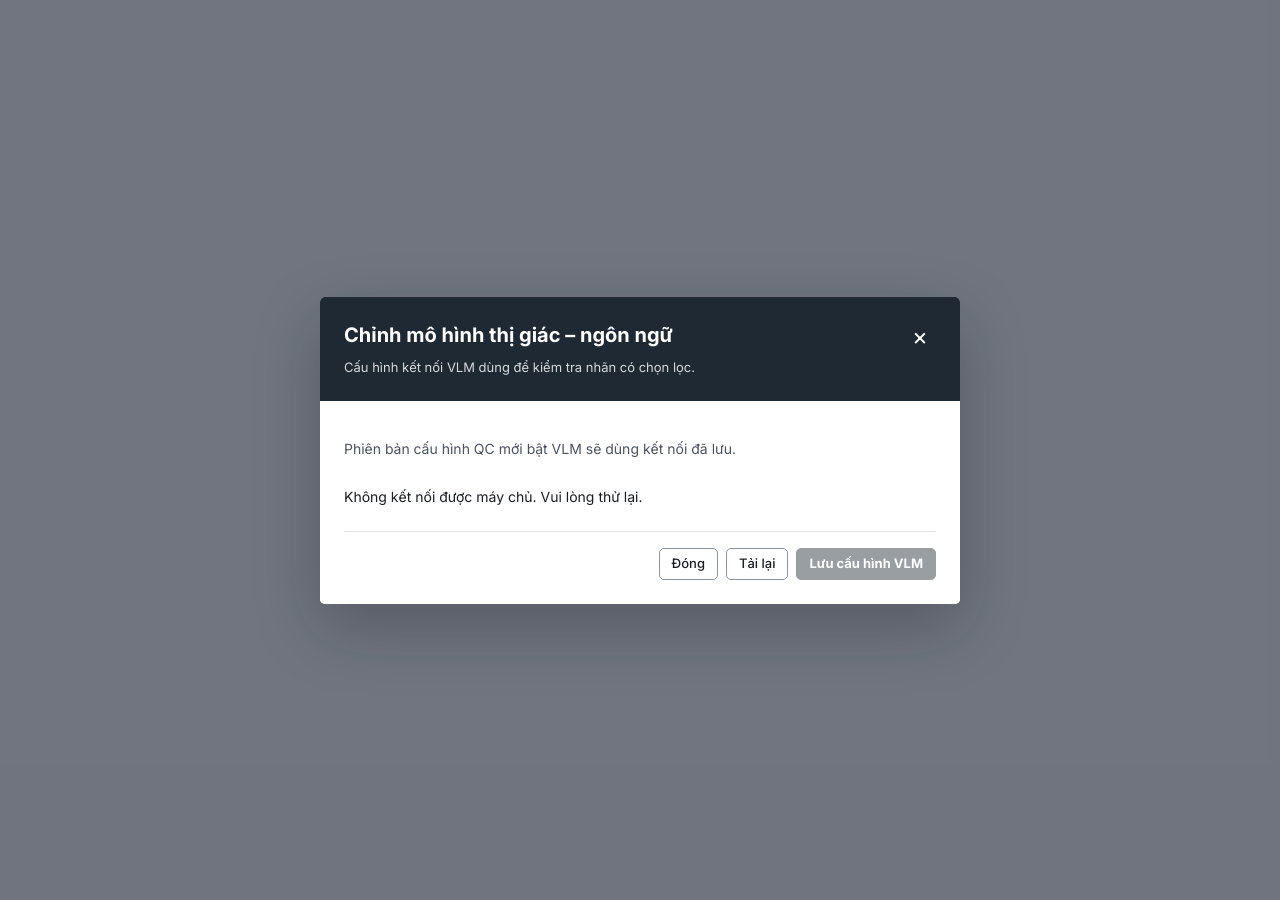
it: VLM settings › recovers from a failed load via reload
Expected: the message "Không kết nối được máy chủ. Vui lòng thử lại." is shown, [344, 488, 642, 504]
Click the button "Tải lại" at (757, 564), box [726, 548, 788, 580]
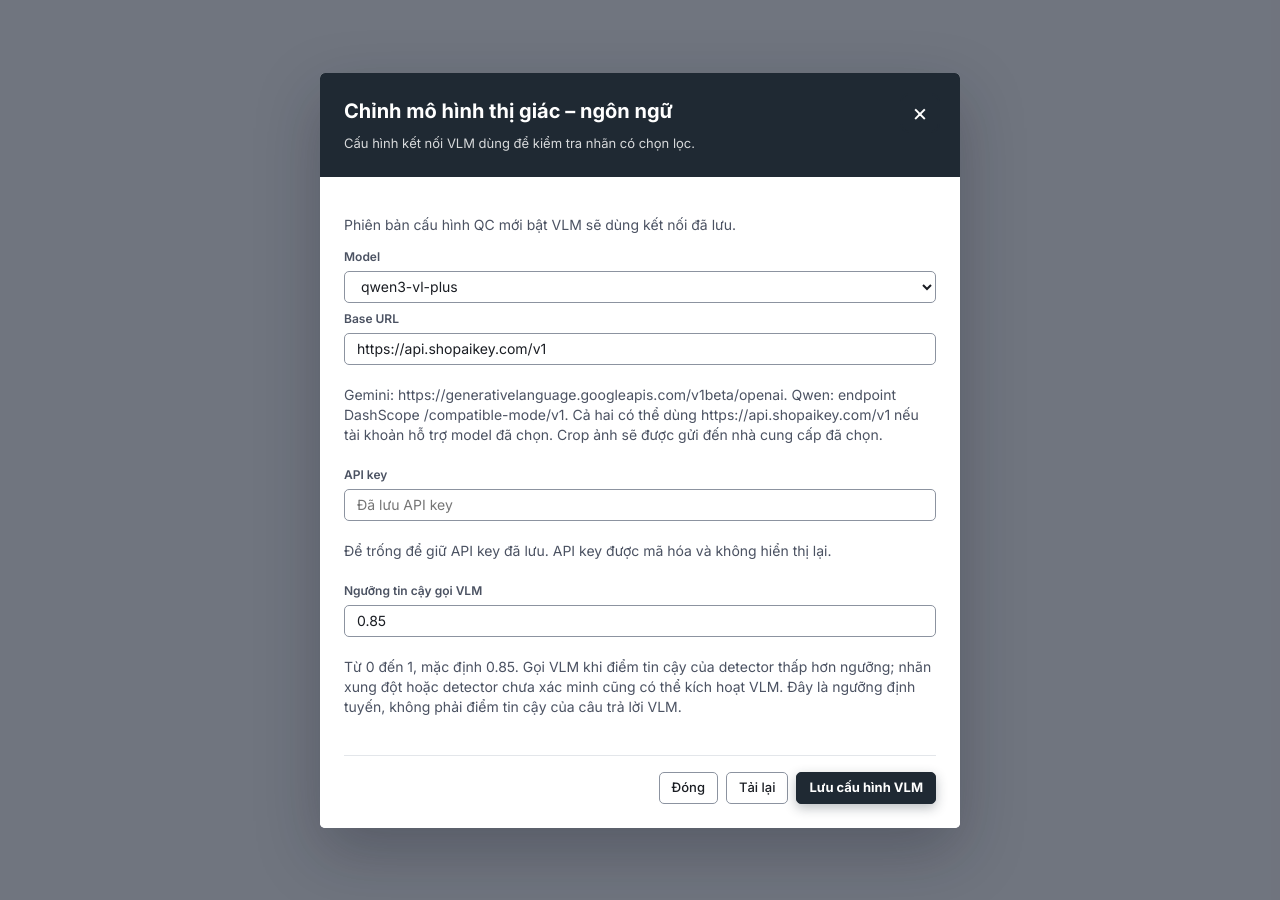
Expected: the field labelled "Base URL" is shown, [344, 332, 936, 364]
